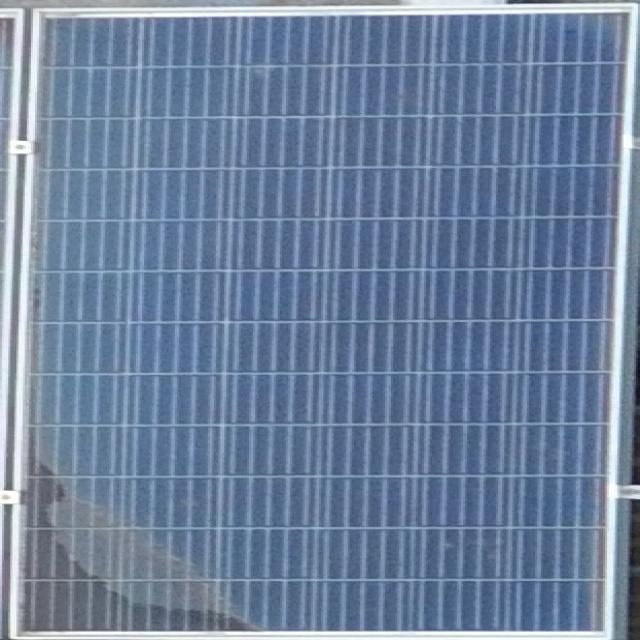Dust: (12, 463, 260, 639)
